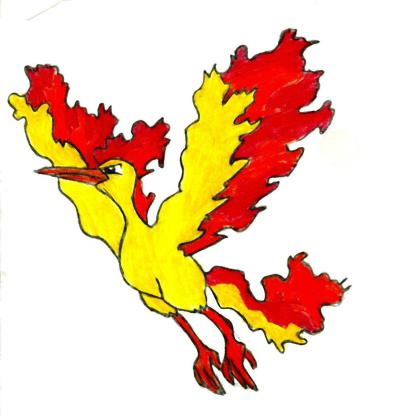Moltres: (23, 71, 416, 399)
